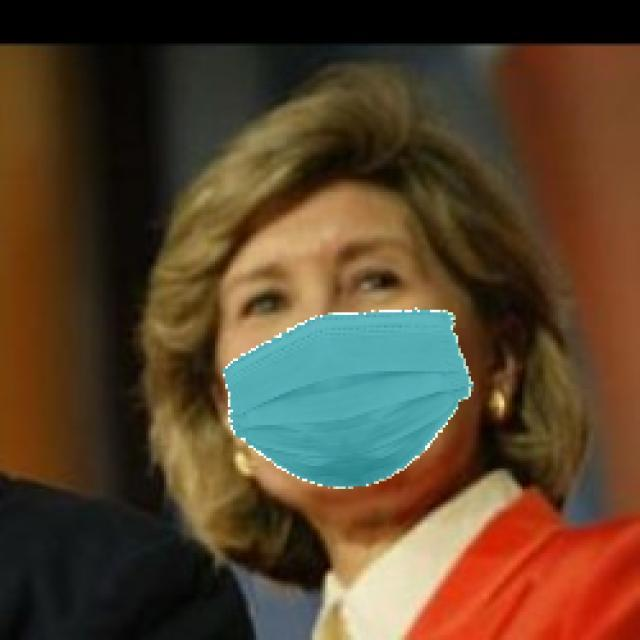surgical: (209, 160, 470, 490)
